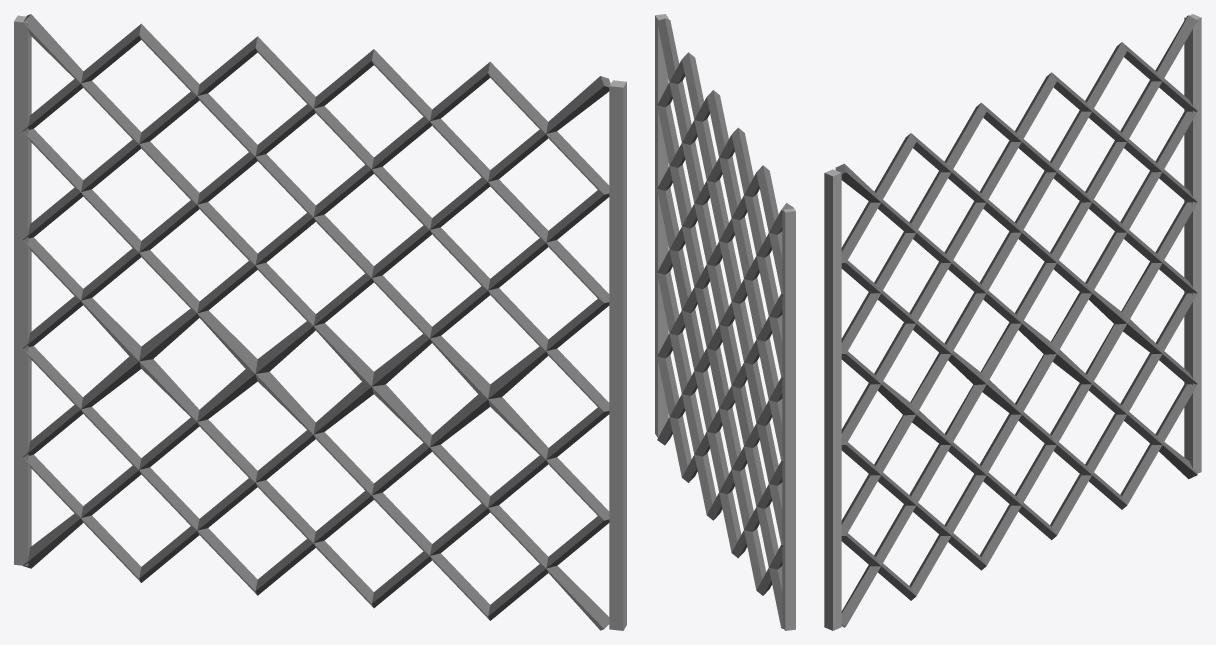
File: Court Fencing.fbx
3 renders of one model, left to right at view 1: azimuth 30°, elevation 25°; view 2: azimuth 150°, elevation 25°; view 3: azimuth 270°, elevation 25°, orthographic. The views are drawn at different scales.
Parts seen in each view (by area): view 1: Court Fencing; view 2: Court Fencing; view 3: Court Fencing.
Boxes of the visible parts, x1,y1,x2,y2 form: Court Fencing: (14, 14, 626, 630); Court Fencing: (655, 14, 795, 630); Court Fencing: (824, 14, 1201, 630).
Bounding box in the file's own units: 162 × 159 × 218.
